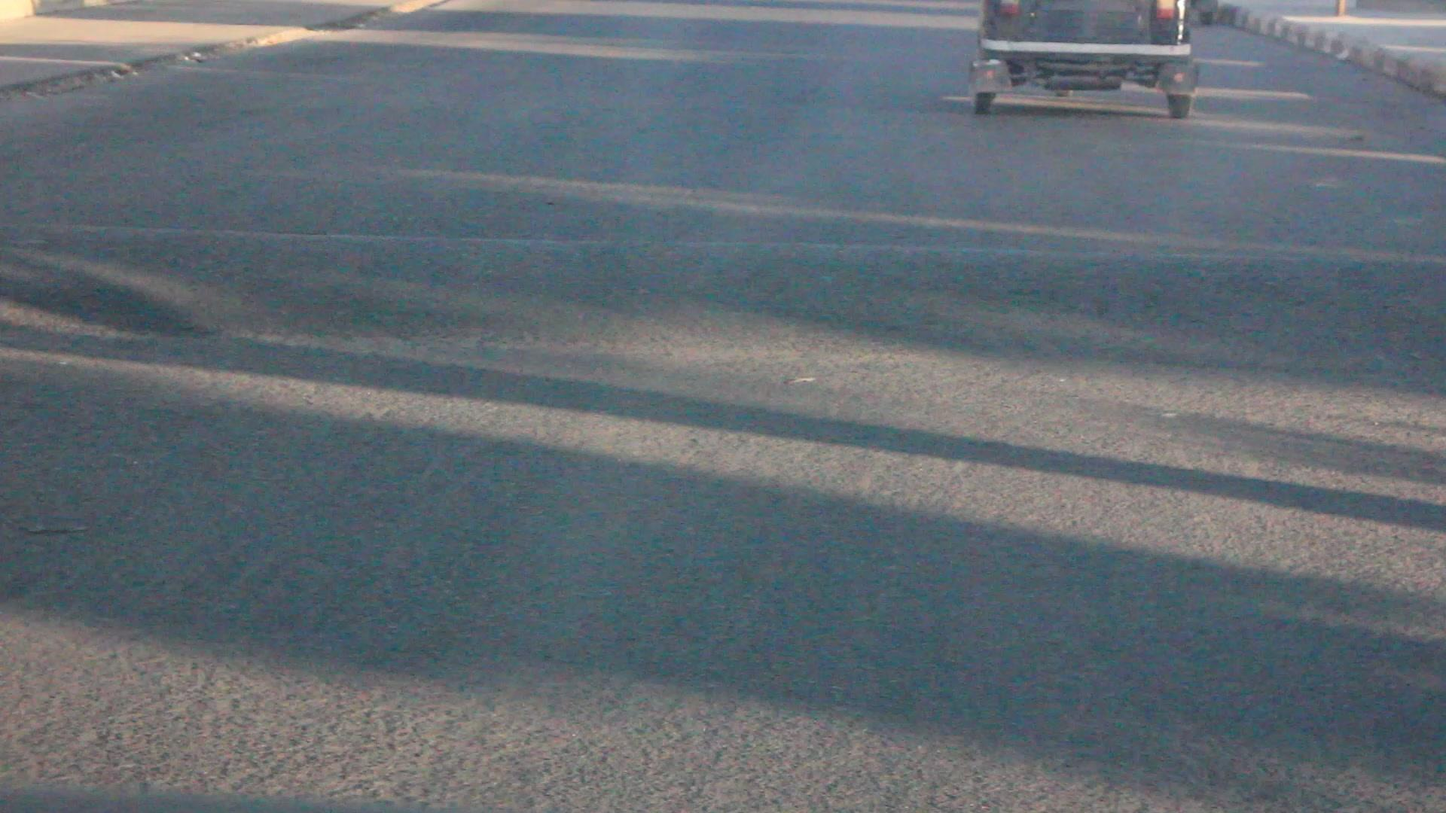Bump: (0, 215, 1446, 384)
